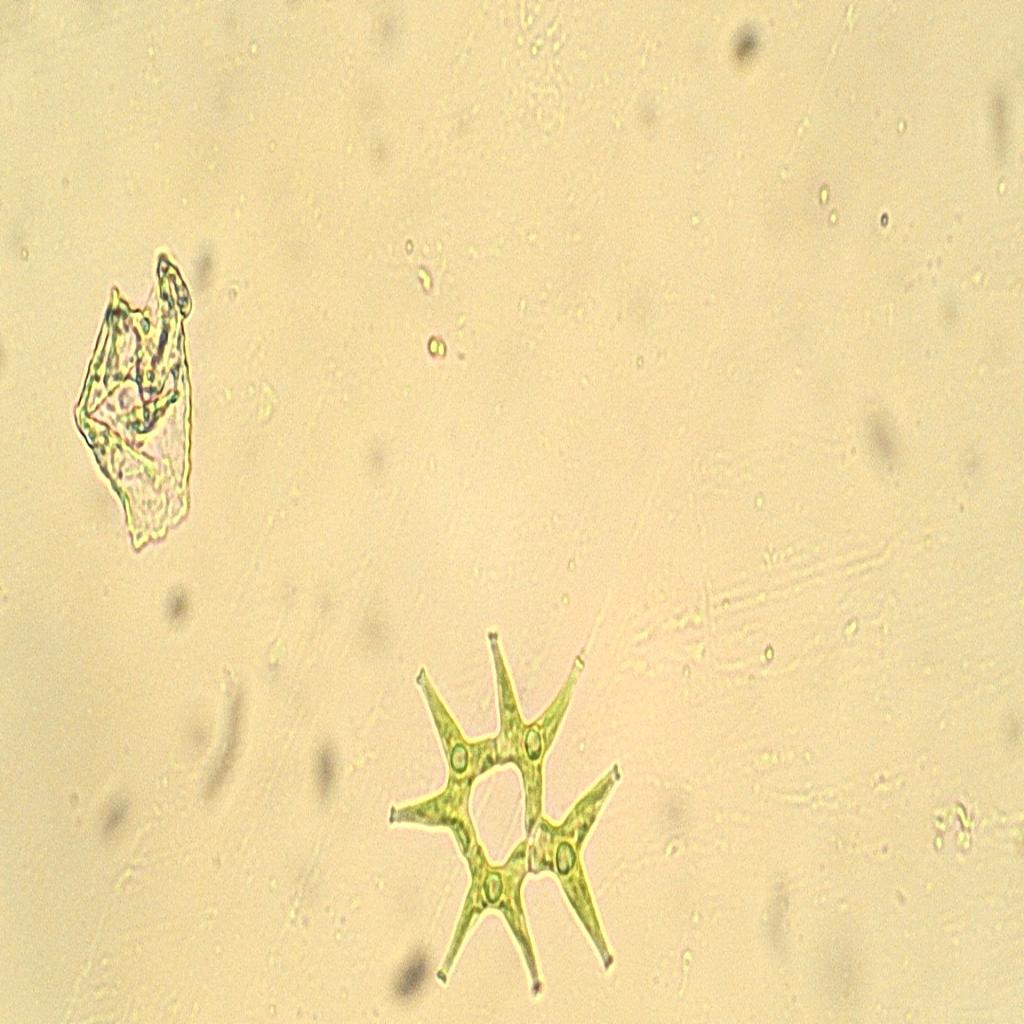Pediastrum_CT: (364, 624, 634, 1007)
